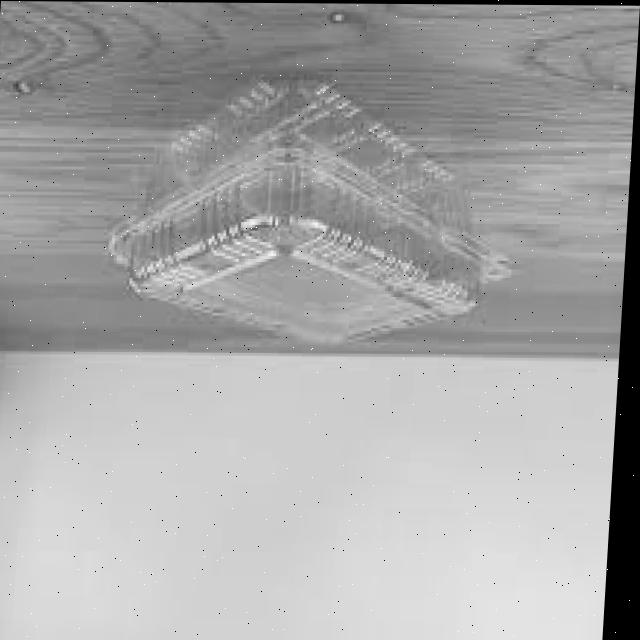disposable: (89, 55, 531, 361)
